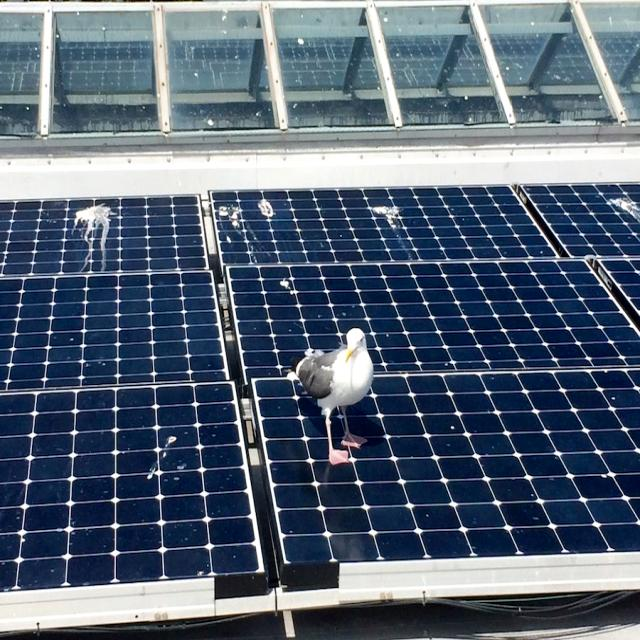bird: (66, 201, 131, 267), (138, 427, 198, 497), (212, 194, 250, 263), (602, 184, 640, 252), (253, 188, 302, 235), (368, 196, 412, 244), (268, 271, 300, 301)
